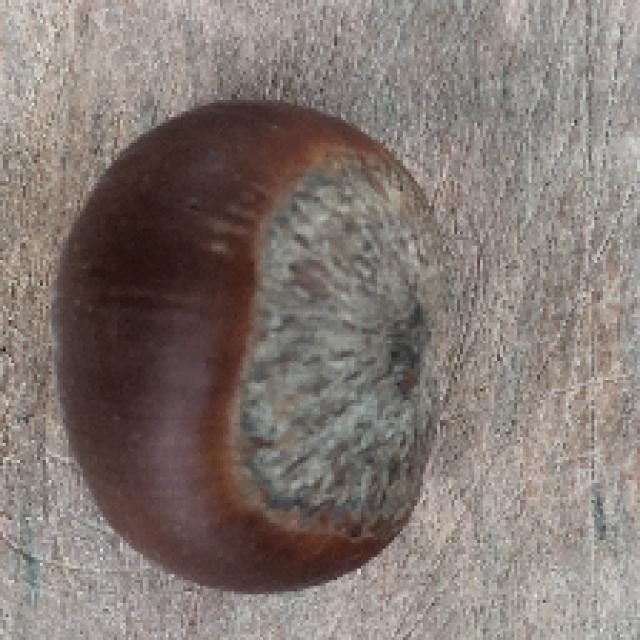damagedHazelnut: (51, 97, 454, 589)
